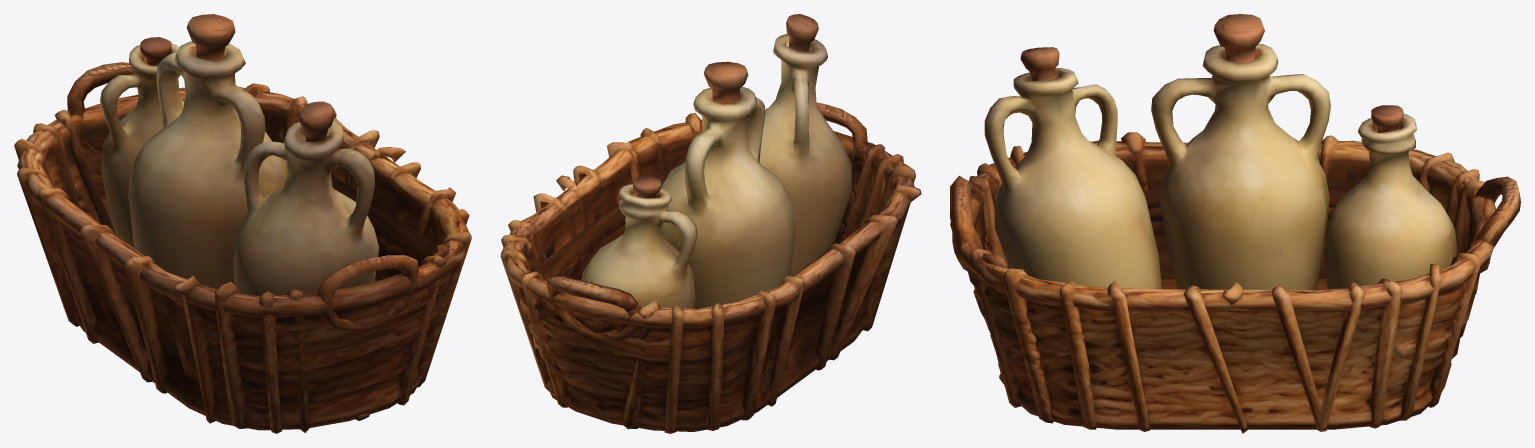
The model's file is lait.glb.
The picture shows the model from 3 angles, left to right: view 1: azimuth 30°, elevation 25°; view 2: azimuth 150°, elevation 25°; view 3: azimuth 270°, elevation 25°; orthographic projection. The views are drawn at different scales.
Parts seen in each view (by area): view 1: tripo_node_2a9da0b8-208a-4c81-84e0-3e5649653462; view 2: tripo_node_2a9da0b8-208a-4c81-84e0-3e5649653462; view 3: tripo_node_2a9da0b8-208a-4c81-84e0-3e5649653462.
Boxes of the visible parts, x1,y1,x2,y2 form: tripo_node_2a9da0b8-208a-4c81-84e0-3e5649653462: [14, 14, 471, 433]; tripo_node_2a9da0b8-208a-4c81-84e0-3e5649653462: [500, 14, 921, 433]; tripo_node_2a9da0b8-208a-4c81-84e0-3e5649653462: [950, 14, 1520, 433].
Size of the model in its own units: 0.6895 by 0.6582 by 0.998.
1 material, 1 textured.
